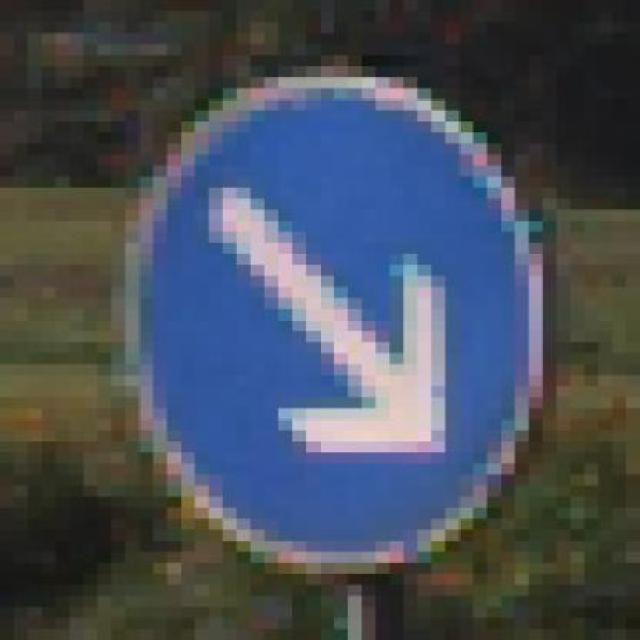Keep-Right: (70, 55, 598, 574)
